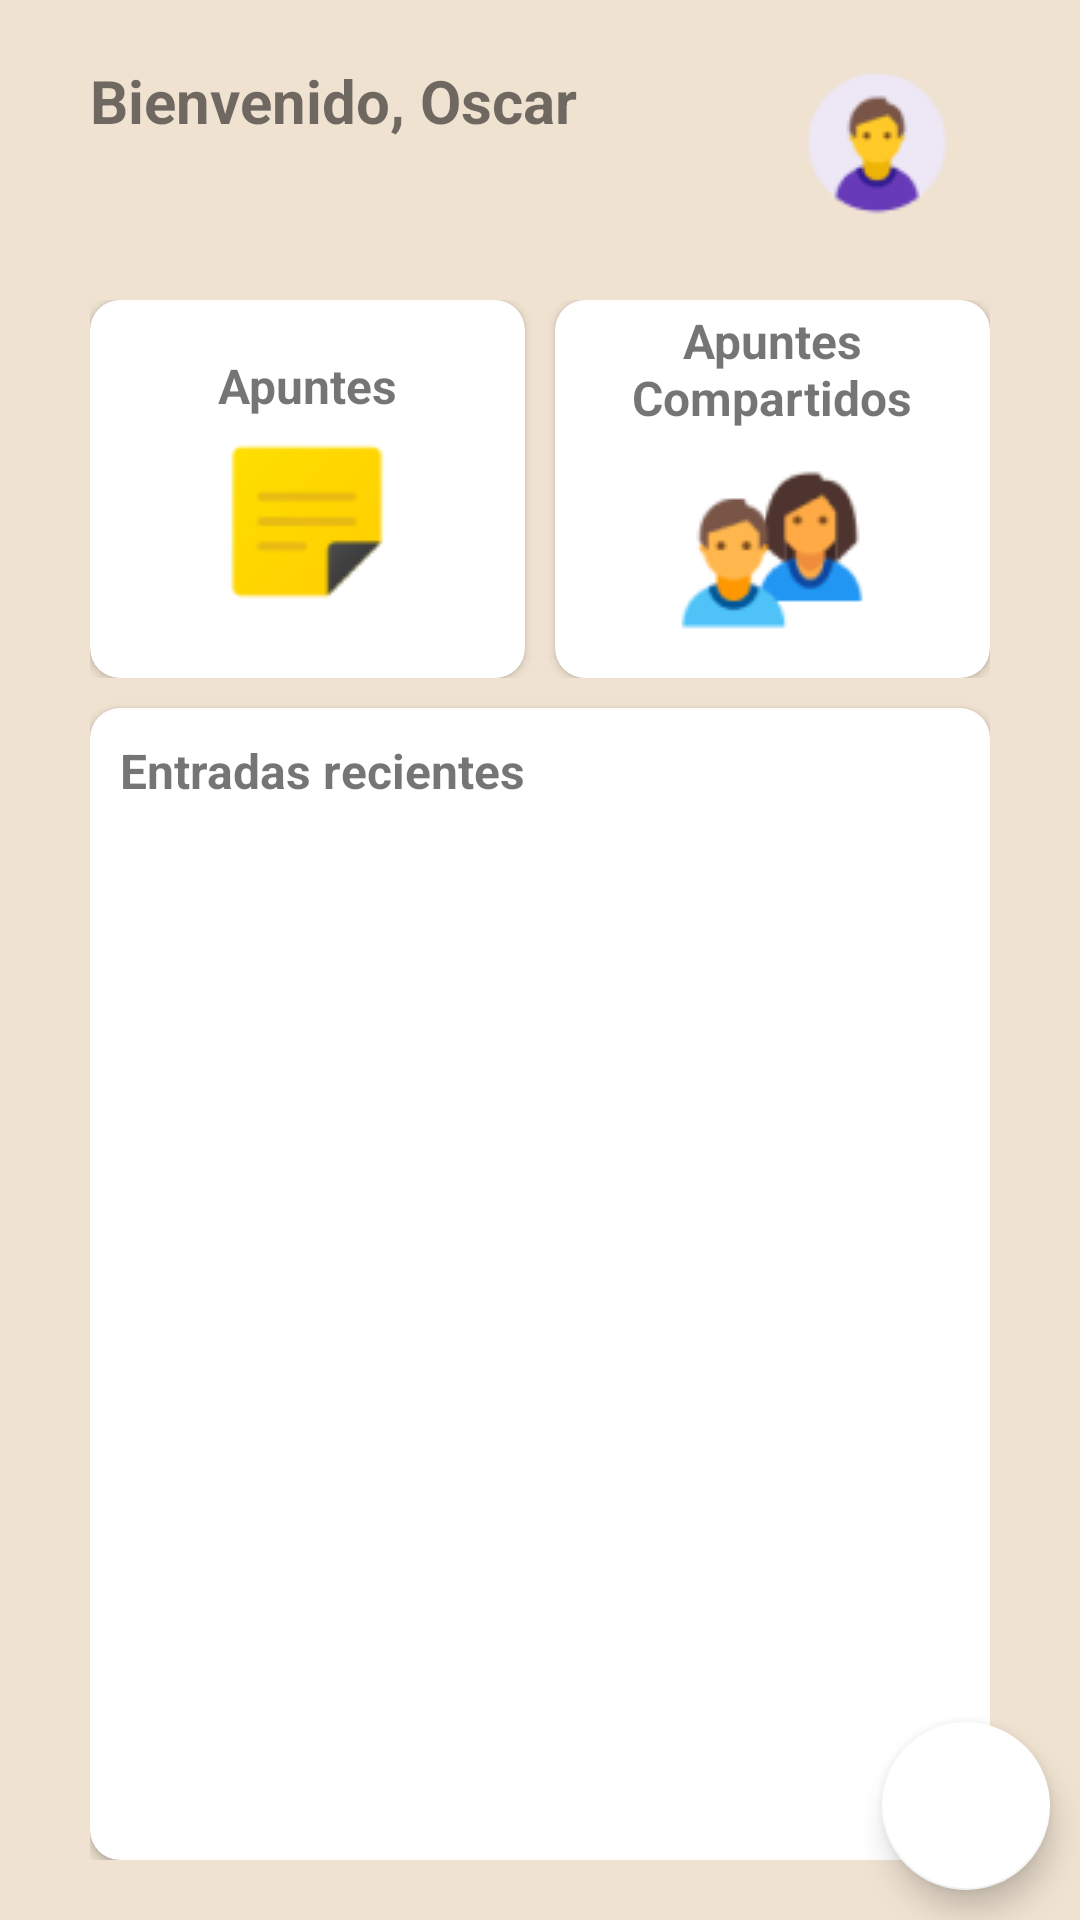

Icons on this 1080x1920 Android screen, each with its box as (x1, y1, x2, y2):
profile: (809, 75, 945, 213)
team: (681, 471, 863, 629)
